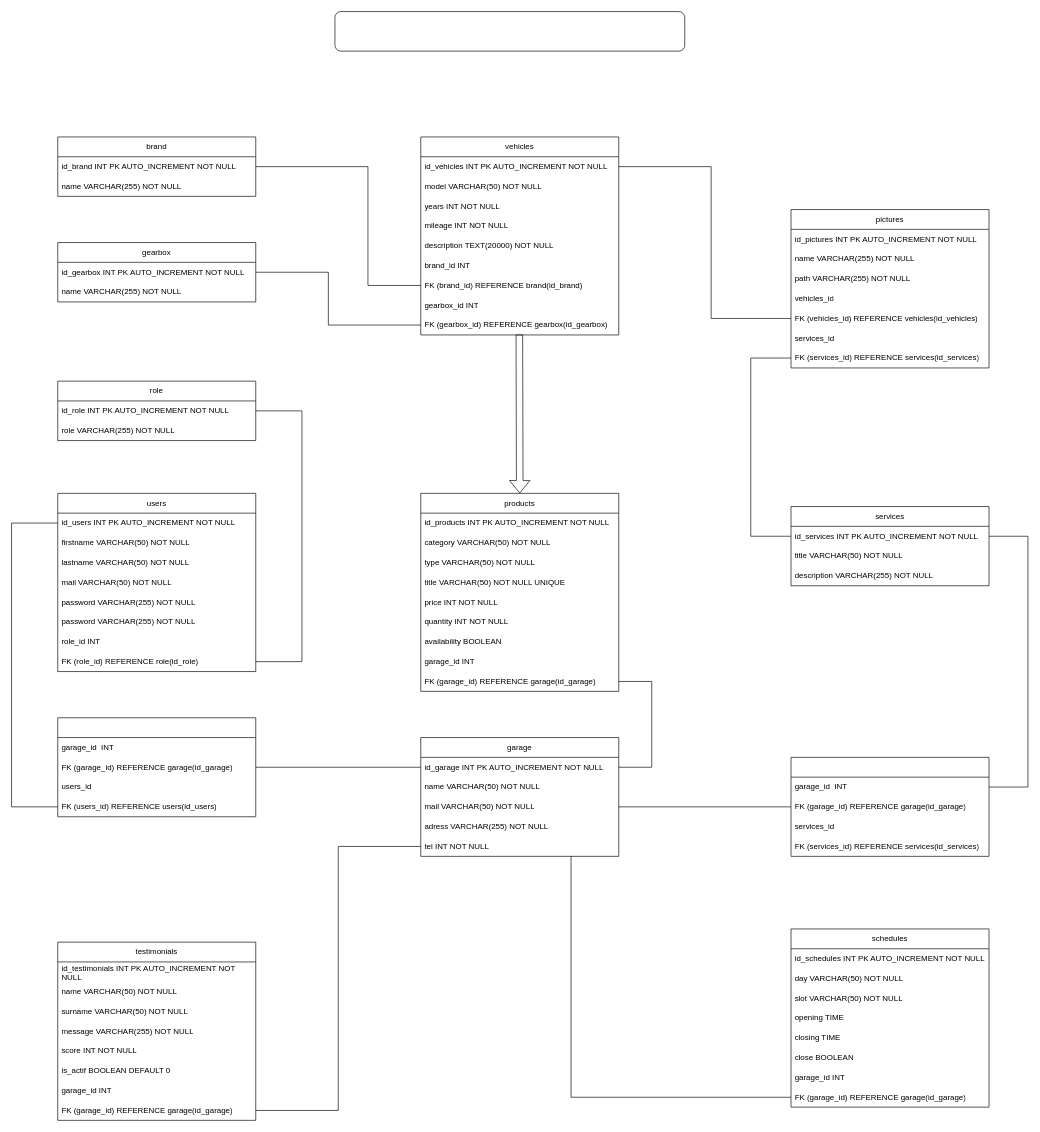
Some shapes in this 1040 by 1132 pixel diagram are drawn without their labels. The box of each missing label's shape, as (x1, y1, x2, y2) in pixels:
garage_services: (790, 757, 989, 856)
garage_users: (57, 717, 256, 817)
MPD Merise - V_Parrot: (334, 11, 685, 51)
